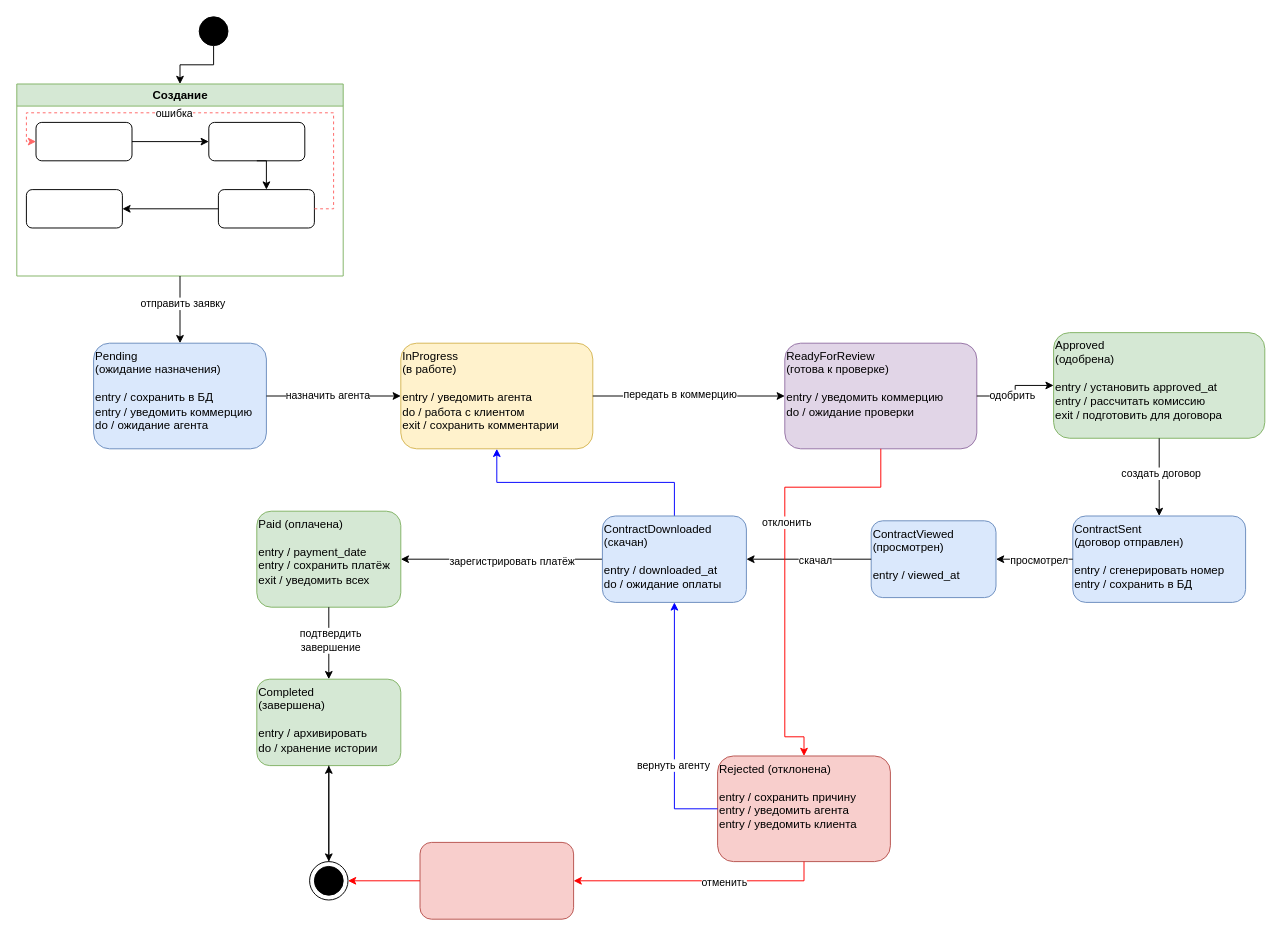
This 1282x936 diagram has some shape labels left out. The centre of each missing label's shape, as x and y in pixels:
Cancelled (отменена) entry / архивировать entry / закрыть процессы: the point at 496,880
Ввод данных: the point at 83,141
Готова к отправке: the point at 73,208
Проверка данных: the point at 265,208
Расчёт стоимости: the point at 256,141
